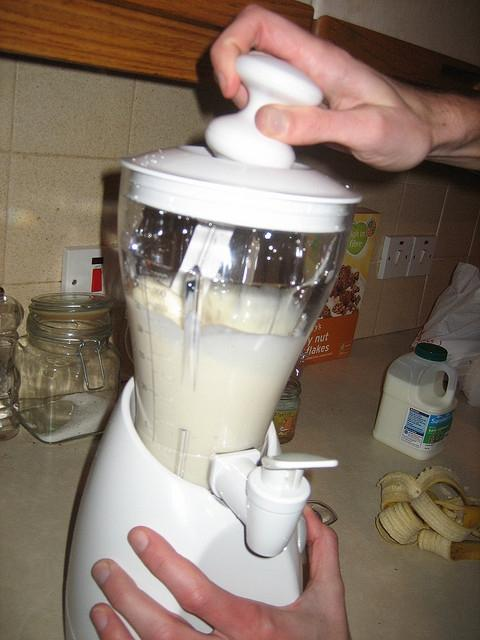banana: (376, 466, 480, 564)
